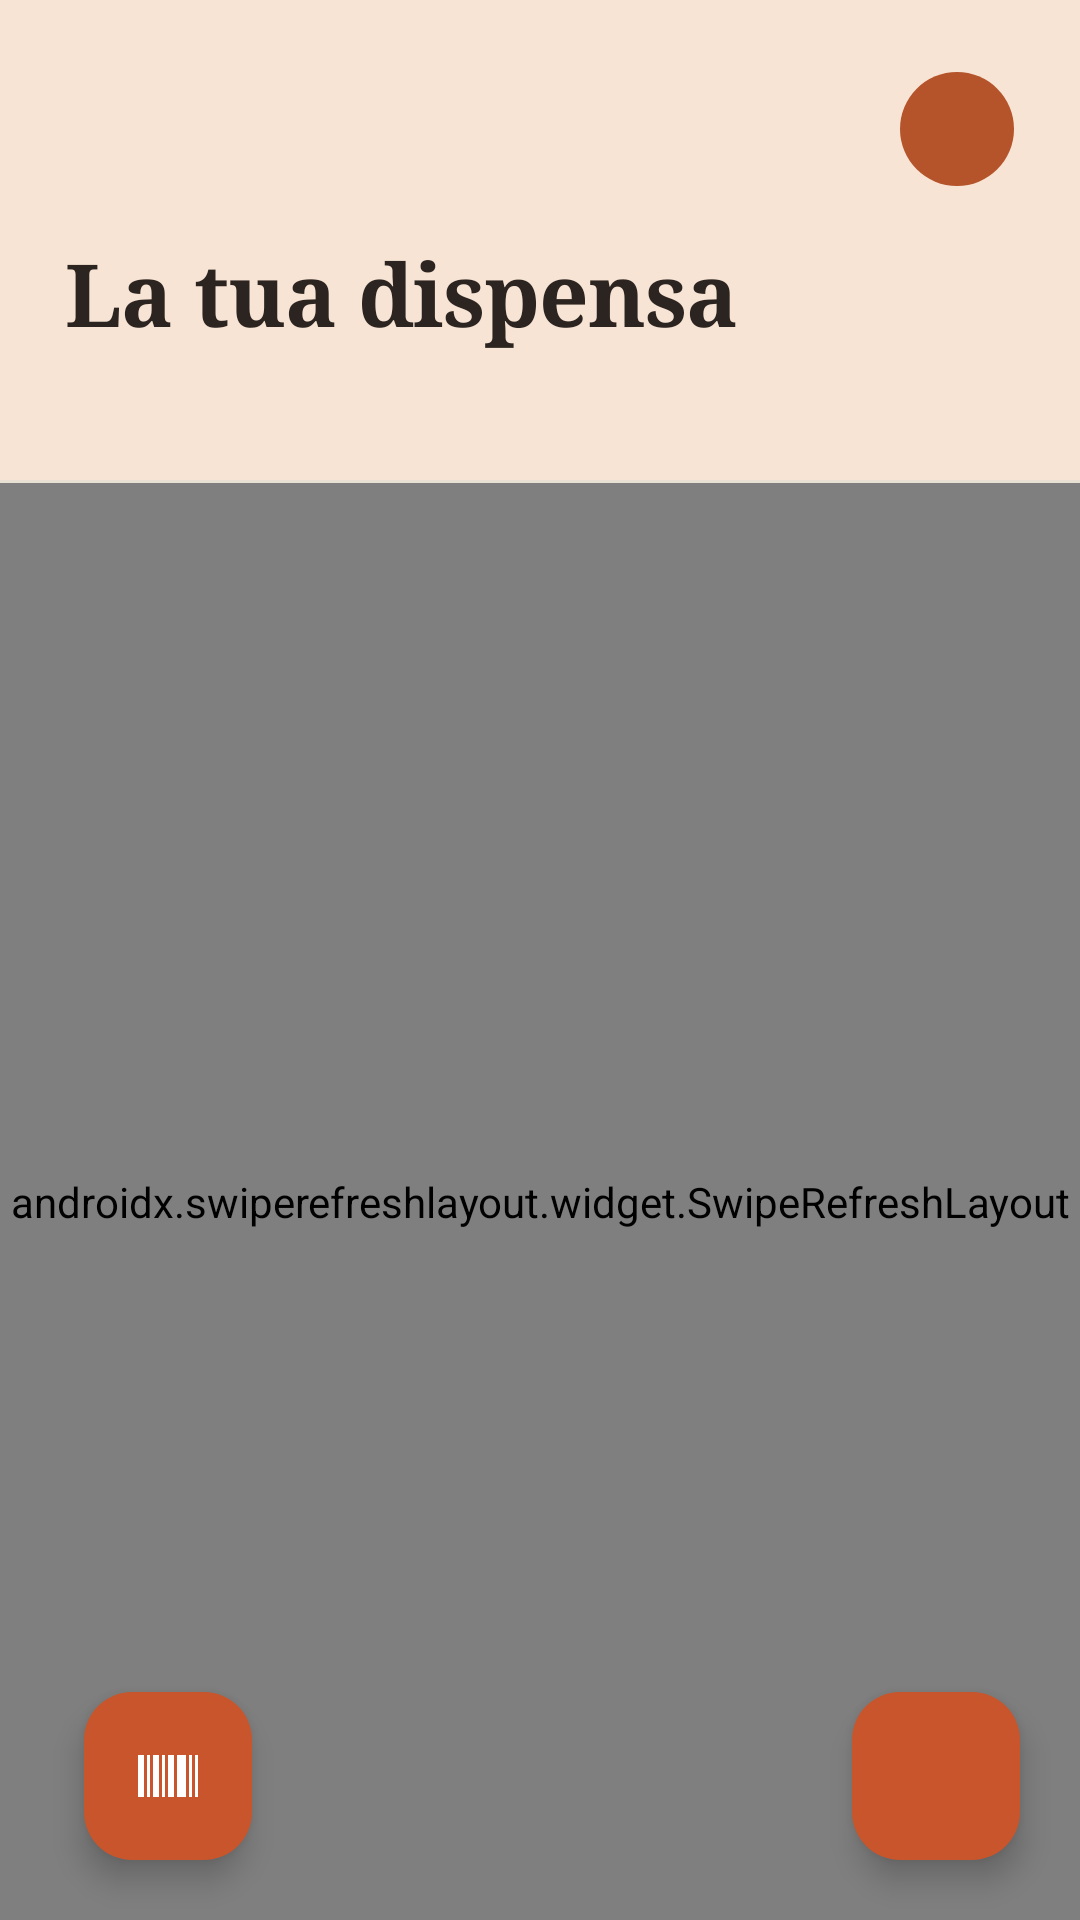

Named icons in this screenshot (1080*1920) and their centers, (x=x, y=y):
Scansiona codice a barre: (x=168, y=1776)
